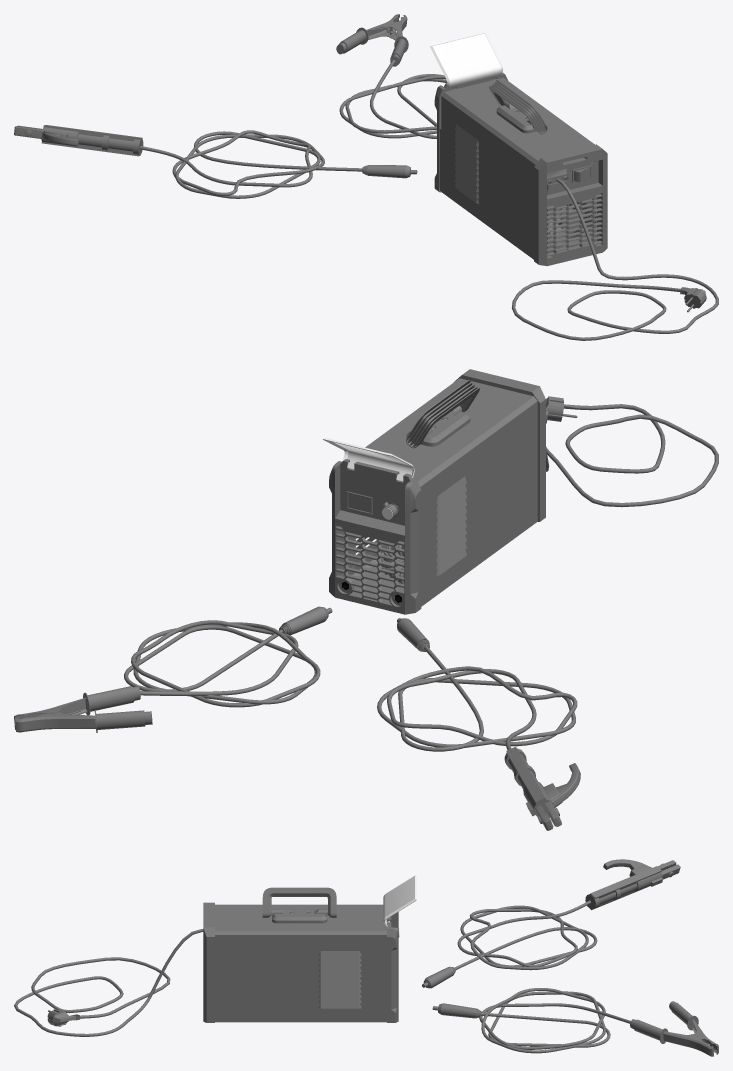
File: Welding Machine.FBX
3 renders of one model, top to bottom at view 1: azimuth 30°, elevation 25°; view 2: azimuth 150°, elevation 25°; view 3: azimuth 270°, elevation 25°, orthographic. The views are drawn at different scales.
Parts seen in each view (by area): view 1: Box003, Plane002, Line017, Line015, Plane007, Box055, Line016, Group041, C-Ext001, Plane003, Cylinder085, Box004 (+1 smaller); view 2: Box003, Plane003, Line017, Line016, Line015, Group056, Group041, Box055, Plane002, C-Ext001, Plane007, Plane006 (+4 smaller); view 3: Box003, Line017, Line016, Line015, Group041, Box055, Plane002, Plane003, C-Ext001, Plane007, Box004, Plane005 (+5 smaller).
Boxes of the visible parts, box(x1,y1,x2,y2) form: Box003: box(440, 77, 600, 259); Plane002: box(534, 144, 607, 266); Line017: box(140, 130, 362, 198); Line015: box(512, 178, 718, 340); Plane007: box(430, 33, 502, 89); Box055: box(14, 125, 143, 156); Line016: box(339, 60, 447, 138); Group041: box(454, 123, 479, 203); C-Ext001: box(489, 80, 547, 134); Plane003: box(434, 72, 508, 192); Cylinder085: box(362, 165, 410, 178); Box004: box(496, 105, 547, 133); Box003: box(338, 378, 537, 606); Plane003: box(329, 459, 421, 614); Line017: box(377, 646, 577, 751); Line016: box(124, 620, 320, 707); Line015: box(546, 404, 718, 507); Group056: box(340, 467, 406, 525); Group041: box(355, 475, 466, 575); Box055: box(504, 746, 580, 830); Plane002: box(453, 369, 545, 521); C-Ext001: box(406, 380, 479, 448); Plane007: box(323, 438, 414, 481); Plane006: box(15, 712, 95, 732); Box003: box(215, 904, 386, 1022); Line017: box(454, 900, 597, 970); Line016: box(479, 988, 630, 1053); Line015: box(14, 929, 203, 1036); Group041: box(318, 951, 361, 1008); Box055: box(585, 859, 680, 910); Plane002: box(203, 902, 214, 1022); Plane003: box(387, 912, 398, 1022); C-Ext001: box(262, 887, 336, 917); Plane007: box(383, 875, 416, 926); Box004: box(272, 908, 327, 923); Plane005: box(663, 1031, 713, 1056).
Bounding box in the file's own units: 744 × 230 × 1205.
25 materials, 4 textured.
